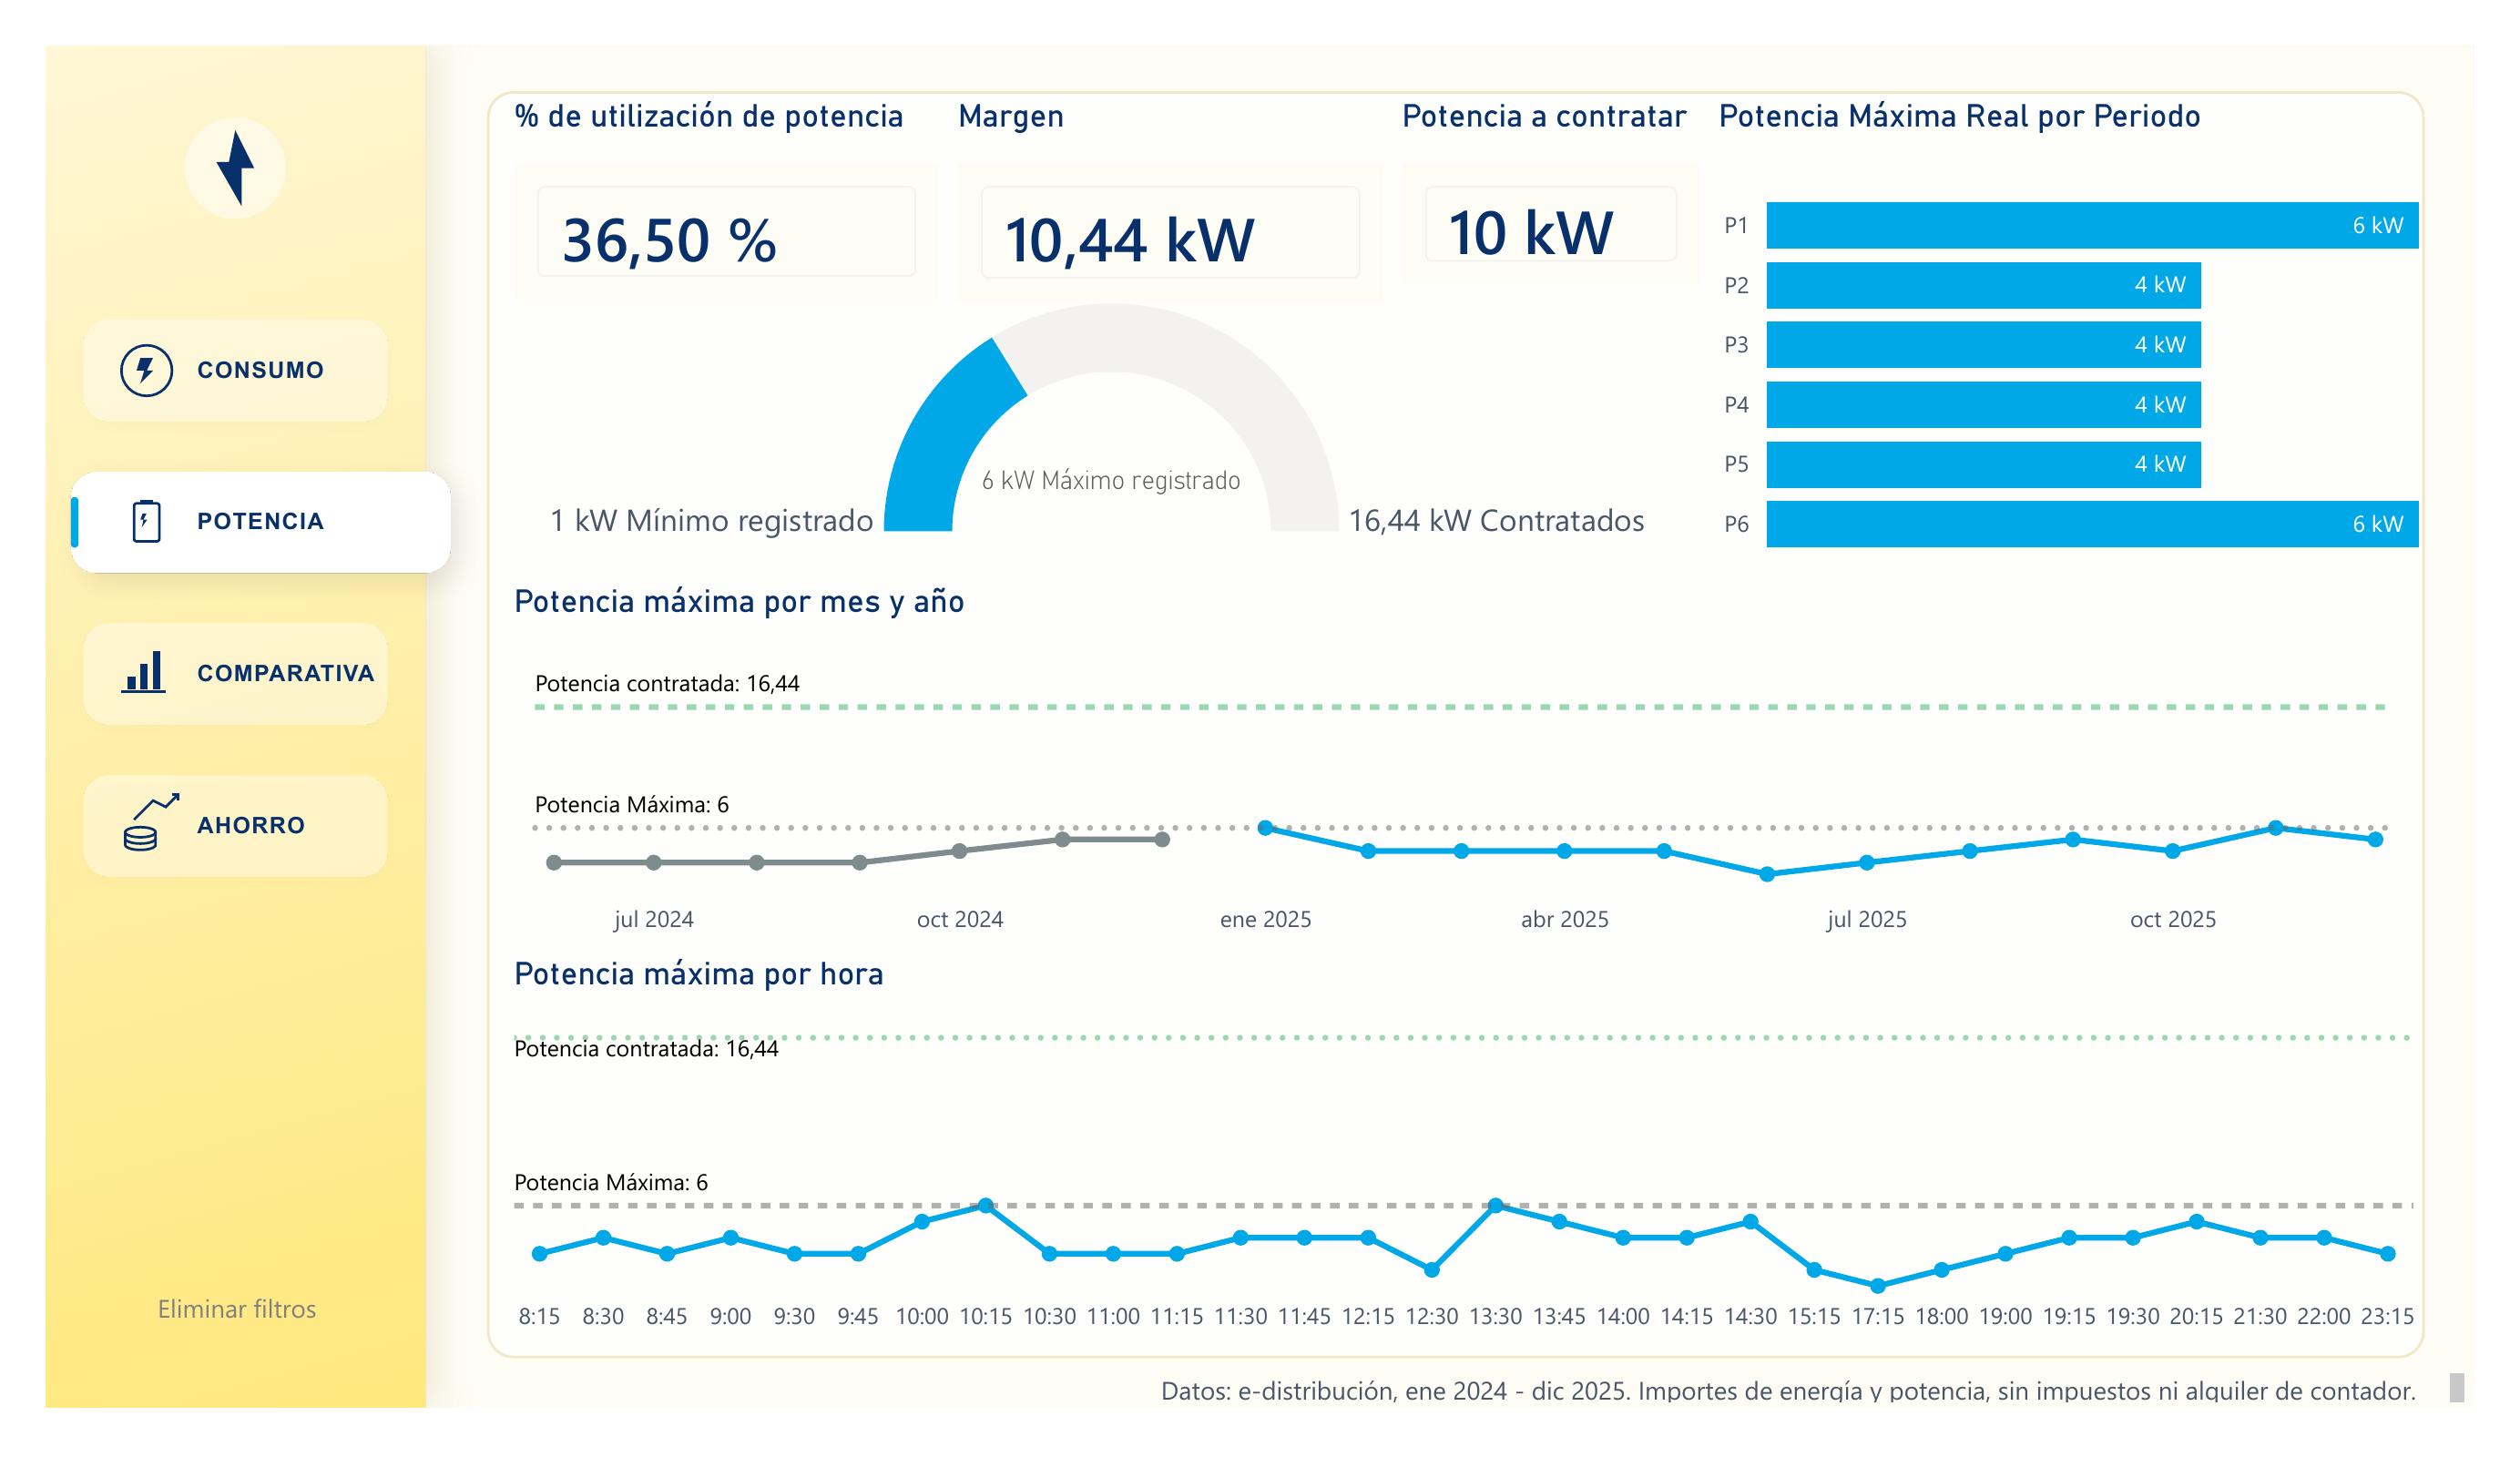

The dashboard page shown, as its layout file describes it:
{"tool":"powerbi","page":{"name":"Potencia","canvas":[1280,720],"ordinal":1},"visuals":[{"type":"cardVisual","title":"% de utilización de potencia","fields":{"Data":["_Medidas.% Utilización Potencia"]},"box":[242.2,26.8,233.3,112.2],"z":0},{"type":"clusteredBarChart","fields":{"Category":["T_periodo_tarifario.Periodo"],"Y":["_Medidas.Potencia Maxima Real"]},"box":[877.1,26.8,378.6,256.3],"z":1000},{"type":"lineChart","title":"Potencia máxima por mes y año","fields":{"Y":["_Medidas.Potencia Maxima Real"],"Series":["Calendario.Año"],"Category":["Calendario.AñoMes"]},"box":[242.2,283,1013.5,196.3],"z":2000},{"type":"lineChart","title":"Potencia máxima por hora","fields":{"Y":["_Medidas.Potencia Maxima Real"],"Category":["T_potencia.Hora"]},"box":[242.2,479.4,1013.5,209.1],"z":3000},{"type":"cardVisual","title":"Margen","fields":{"Data":["_Medidas.Margen Potencia Actual"]},"box":[476,27,233.9,112.5],"z":4000},{"type":"actionButton","box":[19.1,140.2,160.6,58.6],"z":5000},{"type":"actionButton","box":[19.1,304.7,160.6,54.8],"z":7000},{"type":"actionButton","box":[19.1,381.2,160.6,58.6],"z":8000},{"type":"gauge","fields":{"MinValue":["Min(T_potencia.kW)"],"MaxValue":["_Medidas.Potencia Contratada"],"Y":["_Medidas.Potencia Maxima Real"]},"box":[232,131,645.1,135.1],"z":9000},{"type":"cardVisual","title":"Potencia a contratar","fields":{"Data":["_Medidas.Nueva Potencia Contratada"]},"box":[710.1,26.8,167,104.5],"z":10000},{"type":"textbox","box":[582.5,695,697.5,25],"z":11000},{"type":"actionButton","box":[1.2,640,200,50],"z":12000}]}

Visuals, with their boxes on the page's 1280x720 design canvas (x1, y1, x2, y2). These are canvas units, not pixel positions in the 2520x1457 screenshot, which may show the page scaled, cropped or inside an application window:
"% de utilización de potencia" cardVisual: 242,27,476,139
clusteredBarChart - T_periodo_tarifario.Periodo x _Medidas.Potencia Maxima Real: 877,27,1256,283
"Potencia máxima por mes y año" lineChart: 242,283,1256,479
"Potencia máxima por hora" lineChart: 242,479,1256,688
"Margen" cardVisual: 476,27,710,140
actionButton: 19,140,180,199
actionButton: 19,305,180,360
actionButton: 19,381,180,440
gauge - Min(T_potencia.kW) x _Medidas.Potencia Contratada: 232,131,877,266
"Potencia a contratar" cardVisual: 710,27,877,131
textbox: 582,695,1280,720
actionButton: 1,640,201,690
